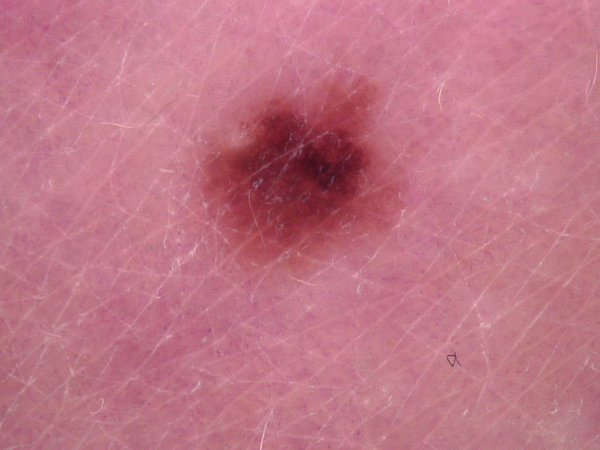Detected Lesion: (192, 71, 406, 279)
